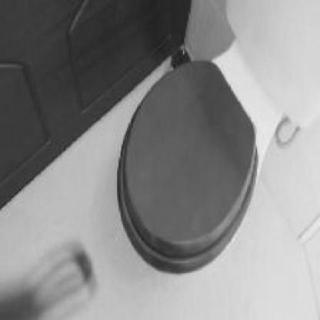other: (116, 73, 254, 265)
